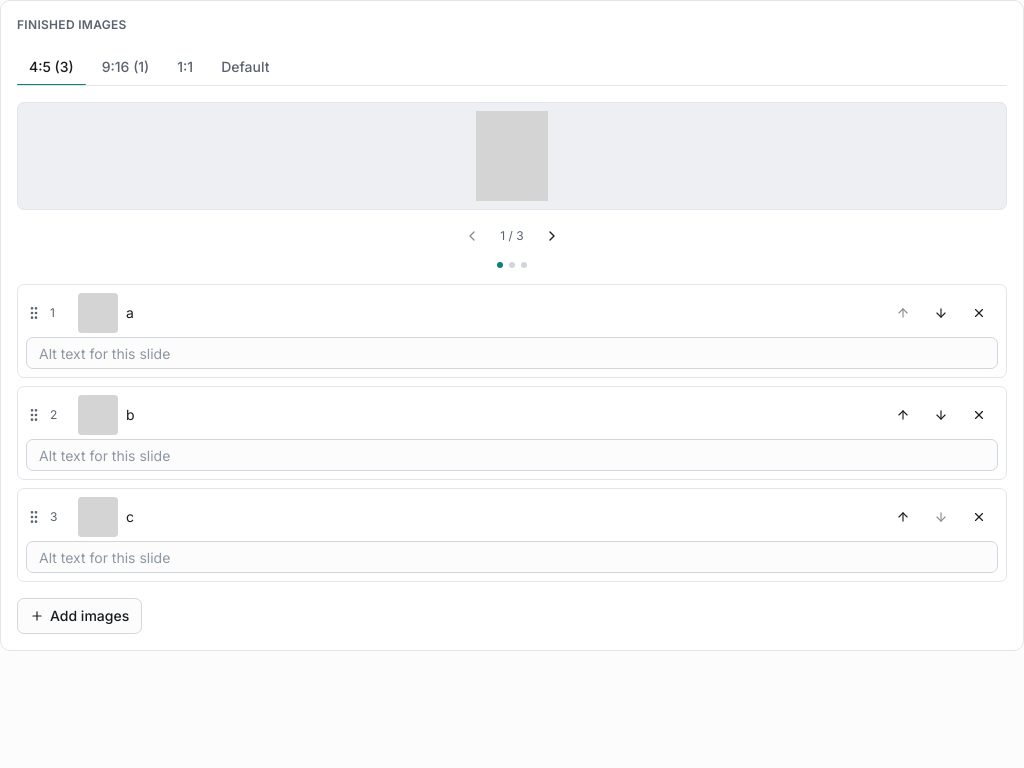
CarouselSlidesSection › steps with the buttons and the arrow keys, showing "n / total"
Expected: the text with test id "carousel-position" reads "1 / 3", [500, 228, 524, 244]
Click the button named "Next slide": (552, 236) [532, 218, 572, 254]
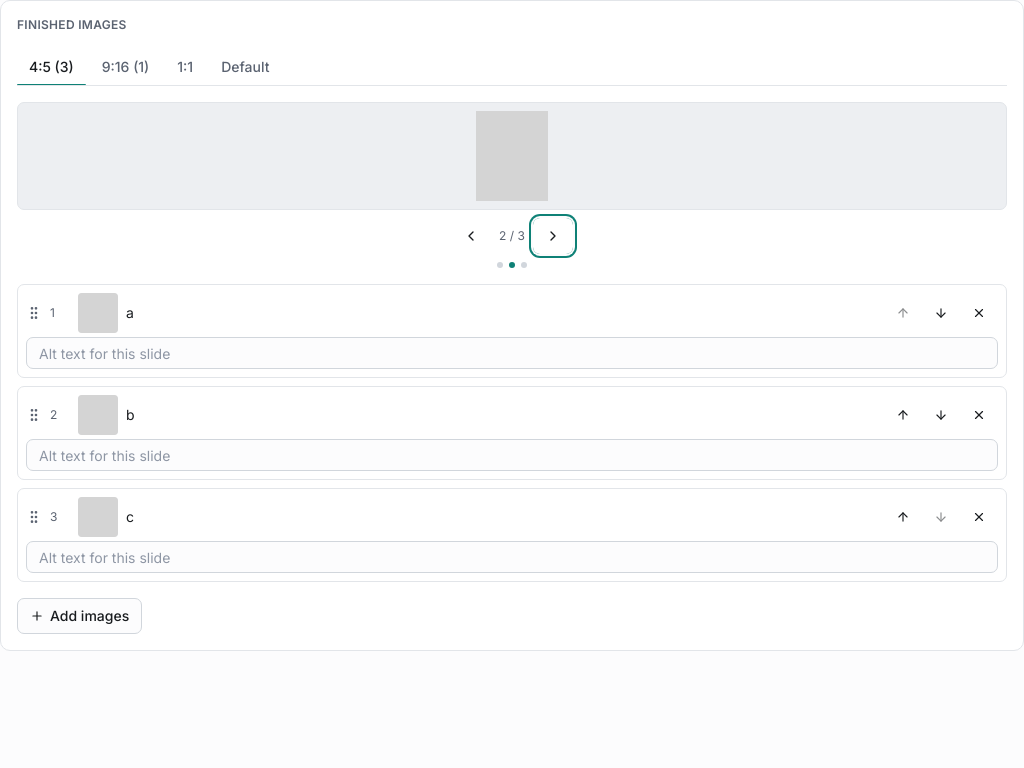
Expected: the text with test id "carousel-position" reads "2 / 3", [499, 228, 525, 244]
Press ArrowRight in the element with test id "carousel-viewer", box [17, 102, 1007, 268]
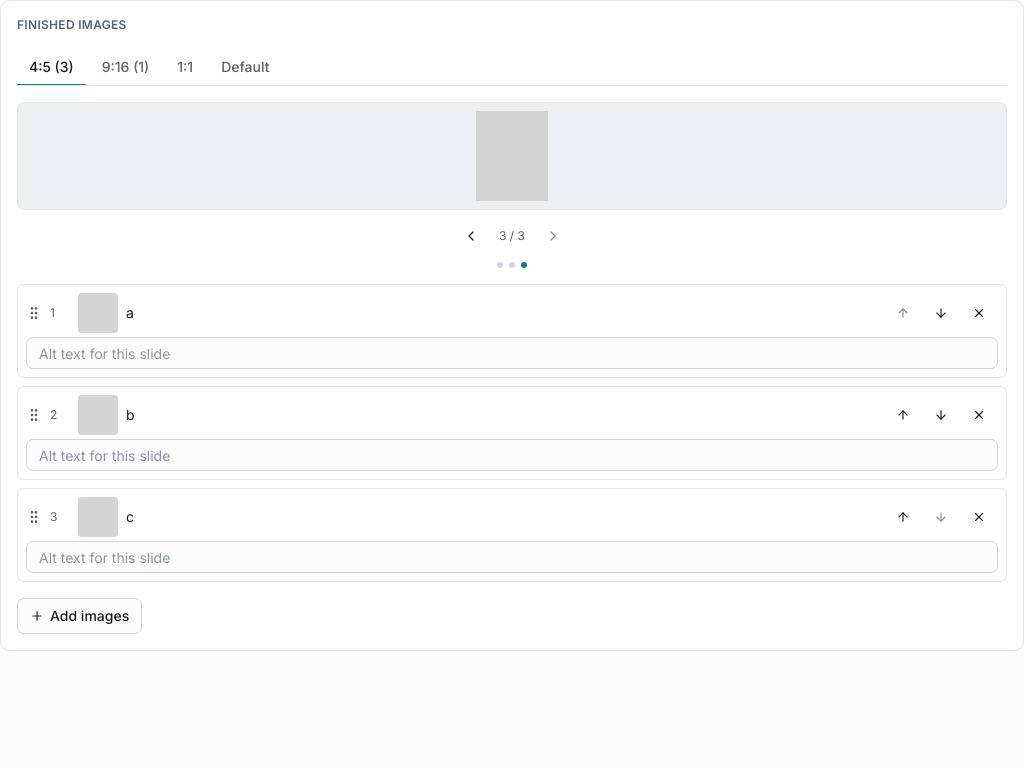
Expected: the text with test id "carousel-position" reads "3 / 3", [499, 228, 525, 244]
Press ArrowRight in the element with test id "carousel-viewer", box [17, 102, 1007, 268]
Expected: the text with test id "carousel-position" reads "3 / 3", [499, 228, 525, 244]
Press ArrowLeft in the element with test id "carousel-viewer", box [17, 102, 1007, 268]
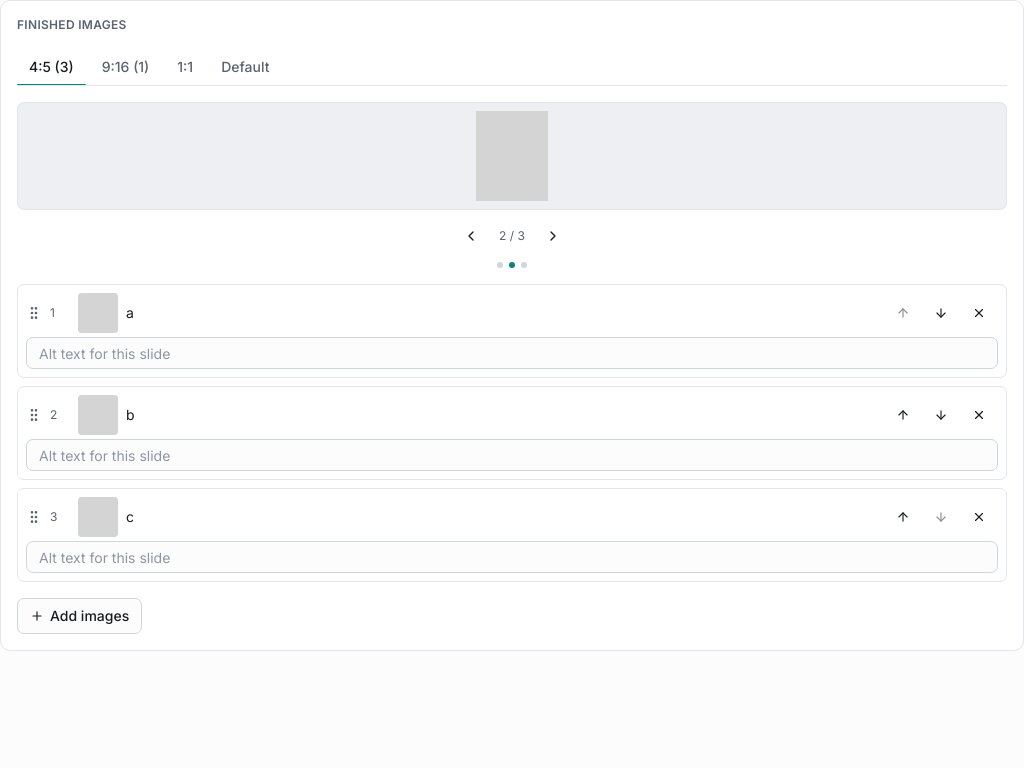
Expected: the text with test id "carousel-position" reads "2 / 3", [499, 228, 525, 244]
